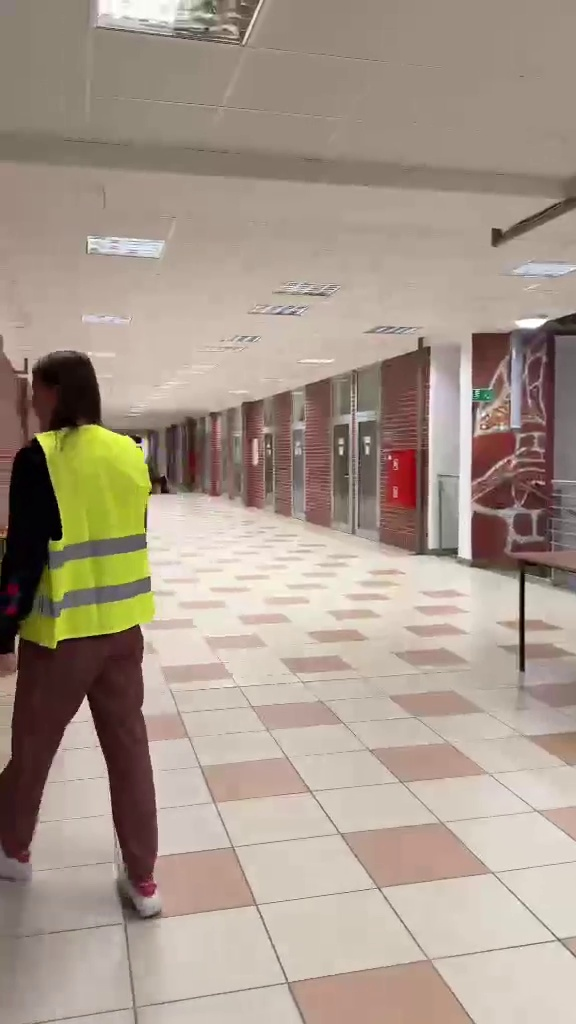vest: (0, 351, 166, 919)
